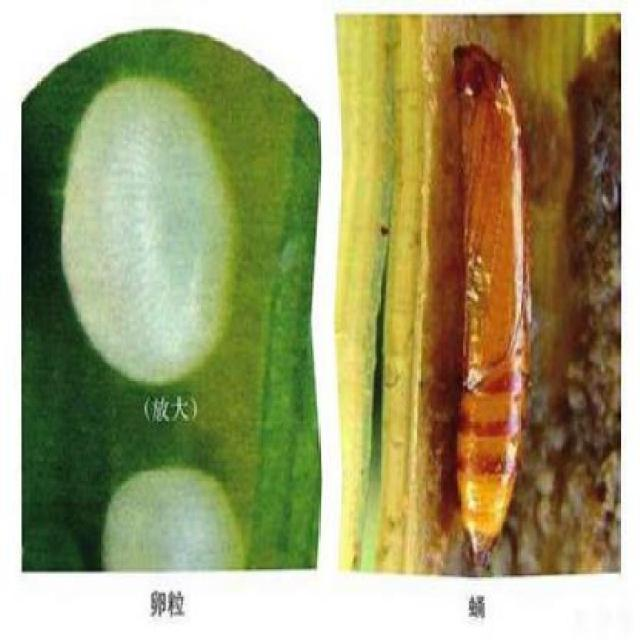whorl-maggot: (447, 36, 535, 576)
